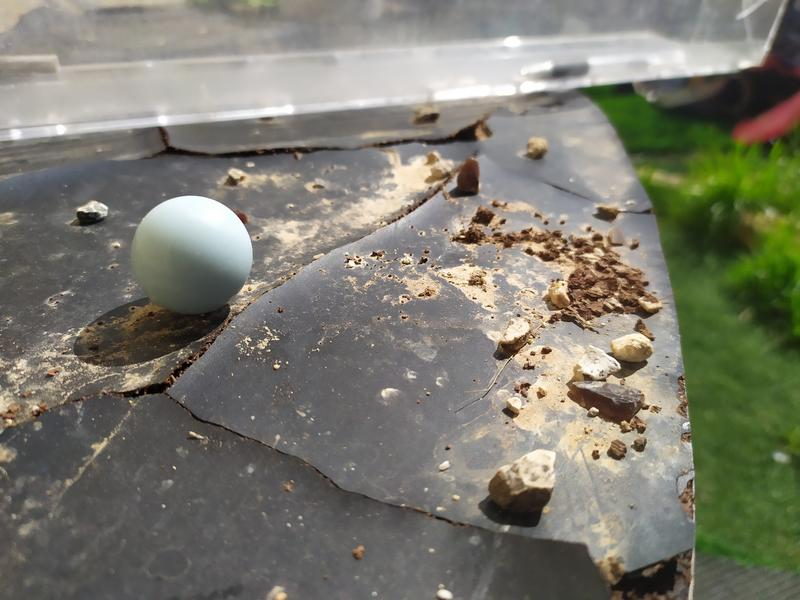Warning: (127, 193, 256, 320)
